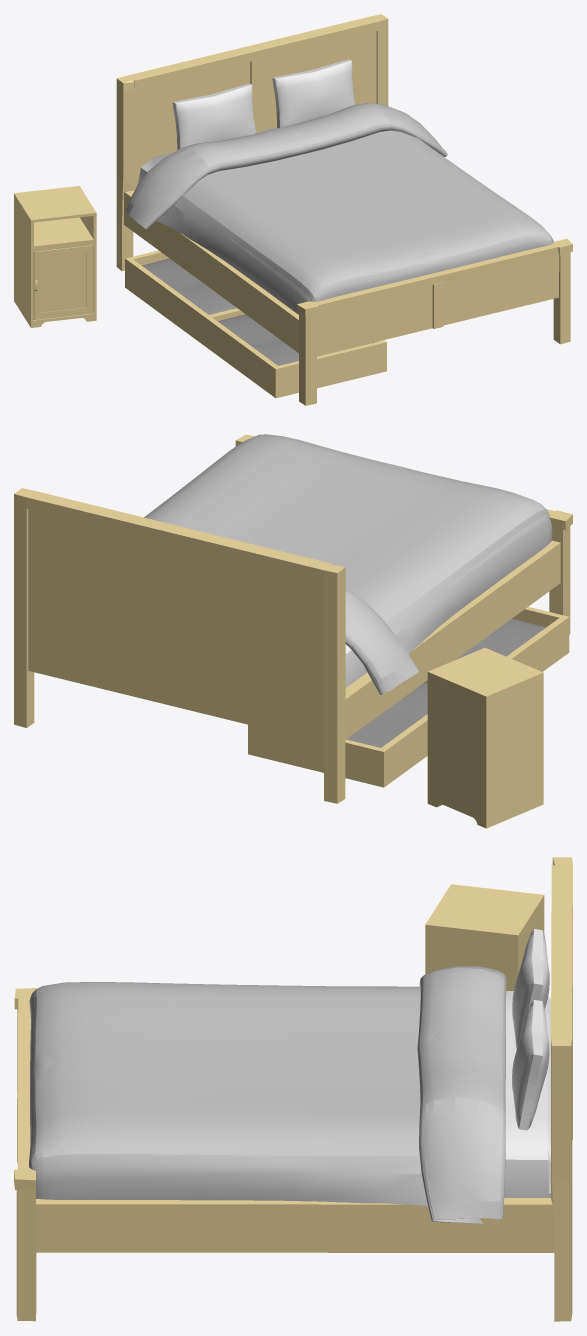
Rendered from IKEA-Aspelund_Double_Bed-3D.obj.
3 views of the same model, one above another, from view 1: azimuth 30°, elevation 25°; view 2: azimuth 150°, elevation 25°; view 3: azimuth 270°, elevation 25° (orthographic). The views are drawn at different scales.
Visible parts, largest first — view 1: Object03, Object02, Box05, Object01, Object04, Object08, Object07, Object06; view 2: Object02, Object03, Box05, Object01, Object07, Object06, Line01; view 3: Object03, Object02, Box05, Line01, Object04, Object08.
Part boxes in pixels (bbox=[...]): Object03: bbox=[126, 103, 553, 314]; Object02: bbox=[116, 14, 572, 405]; Box05: bbox=[14, 186, 96, 327]; Object01: bbox=[125, 250, 386, 398]; Object04: bbox=[272, 59, 355, 128]; Object08: bbox=[172, 83, 256, 149]; Object07: bbox=[142, 258, 236, 314]; Object06: bbox=[218, 314, 371, 365]; Object02: bbox=[14, 434, 572, 803]; Object03: bbox=[144, 434, 552, 694]; Box05: bbox=[427, 648, 543, 828]; Object01: bbox=[248, 607, 569, 787]; Object07: bbox=[346, 683, 427, 747]; Object06: bbox=[455, 618, 545, 659]; Line01: bbox=[345, 644, 367, 687]; Object03: bbox=[29, 966, 506, 1223]; Object02: bbox=[14, 857, 572, 1321]; Box05: bbox=[425, 884, 544, 990]; Line01: bbox=[504, 991, 550, 1197]; Object04: bbox=[512, 1000, 549, 1130]; Object08: bbox=[512, 929, 549, 1049].
Bounding box in the file's own units: 6391 × 2799 × 5148.
